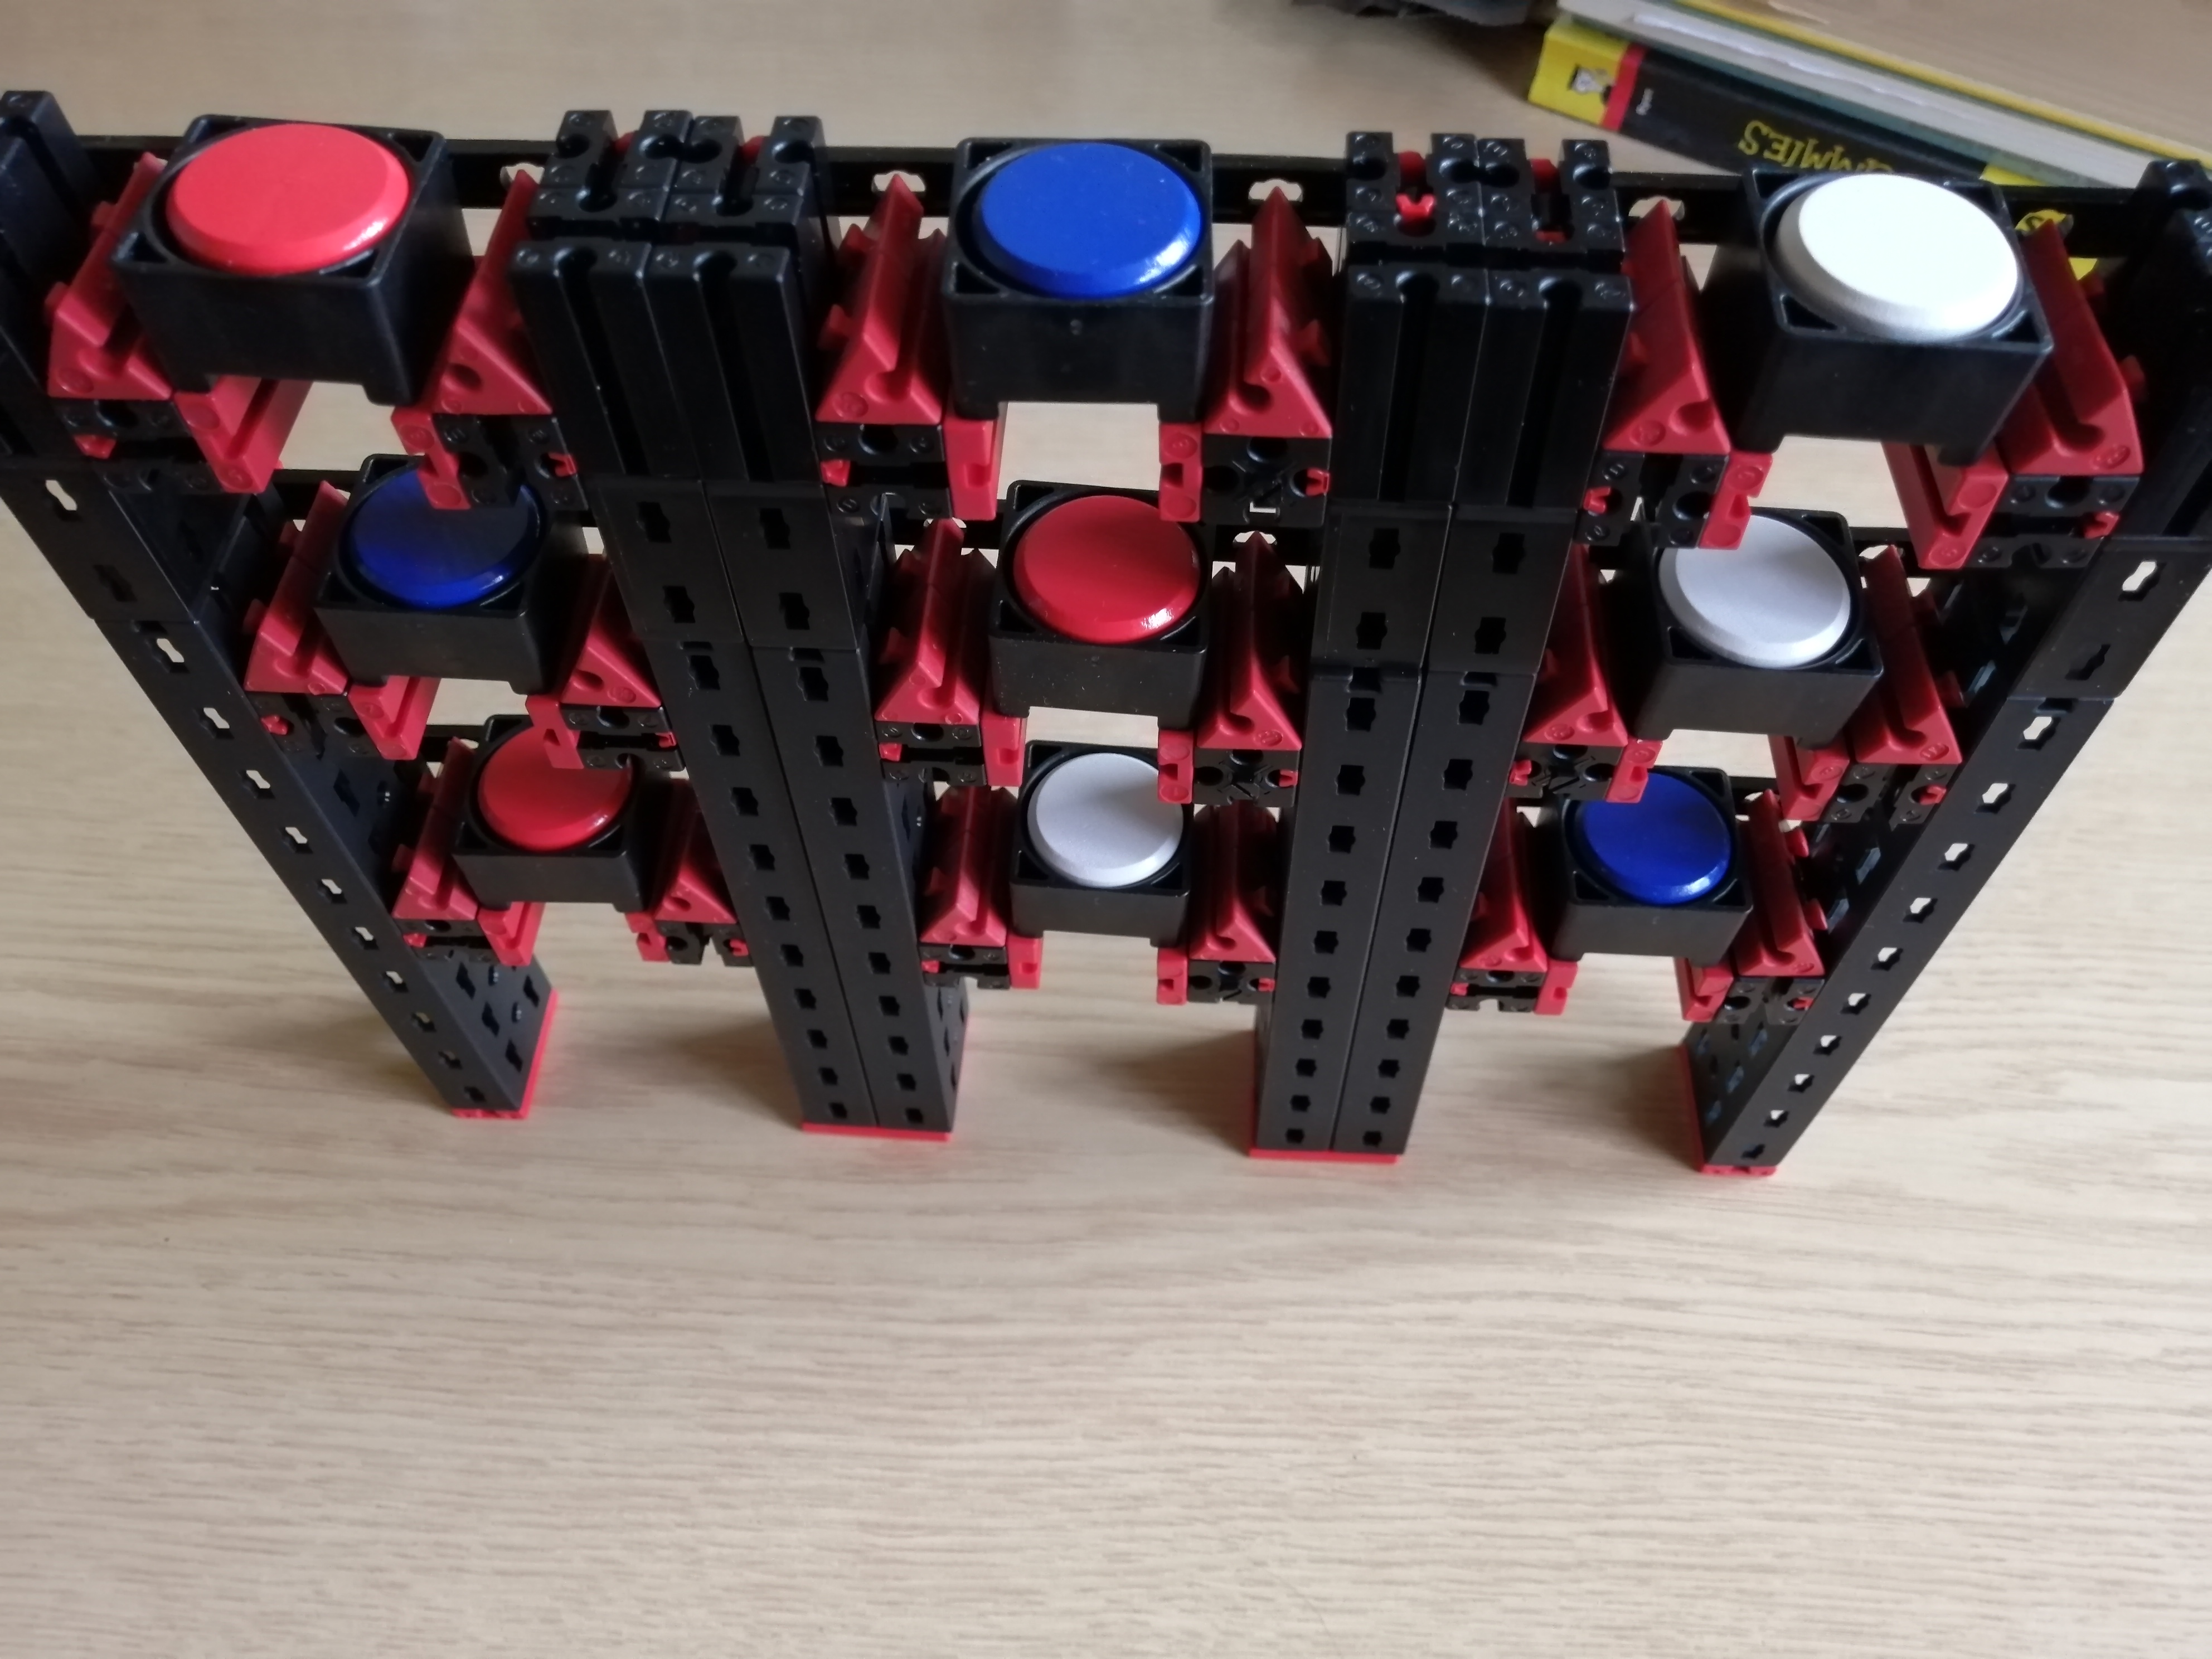Behaelter: (1728, 153, 2055, 460), (138, 120, 441, 396), (954, 141, 1209, 401), (1625, 547, 1869, 748), (319, 505, 578, 685), (982, 523, 1204, 725), (444, 751, 646, 901), (1554, 796, 1737, 960), (1014, 779, 1190, 943)
WerkStueck: (1780, 169, 2008, 350), (167, 124, 404, 258), (982, 152, 1188, 286), (1022, 512, 1191, 647), (1677, 542, 1846, 655), (1038, 779, 1181, 884), (1588, 802, 1717, 908), (369, 500, 498, 596), (489, 758, 613, 849)
